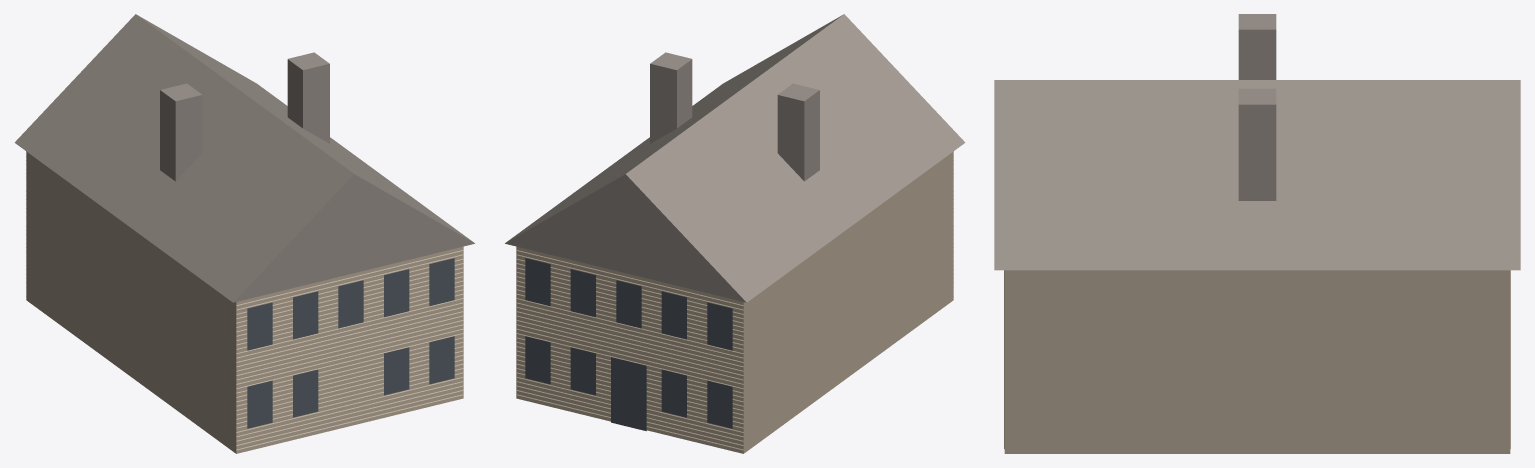
The model's file is green_tree_tavern__frame_1833.glb.
3 renders of one model, left to right at view 1: azimuth 30°, elevation 25°; view 2: azimuth 150°, elevation 25°; view 3: azimuth 270°, elevation 25°, orthographic. The views are drawn at different scales.
Parts seen in each view (by area): view 1: green_tree_tavern__frame_1833; view 2: green_tree_tavern__frame_1833; view 3: green_tree_tavern__frame_1833.
Boxes of the visible parts, left/top/right/bottom form: green_tree_tavern__frame_1833: left=14, top=14, right=474, bottom=453; green_tree_tavern__frame_1833: left=505, top=14, right=965, bottom=453; green_tree_tavern__frame_1833: left=994, top=14, right=1520, bottom=453.
Size of the model in its own units: 8.12 by 8.72 by 12.69.
